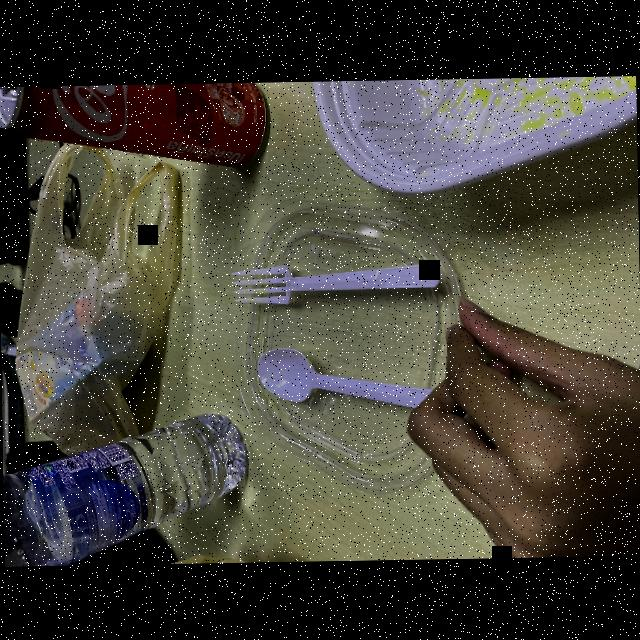plastic_spoon: (248, 334, 432, 408), (222, 260, 454, 306)
